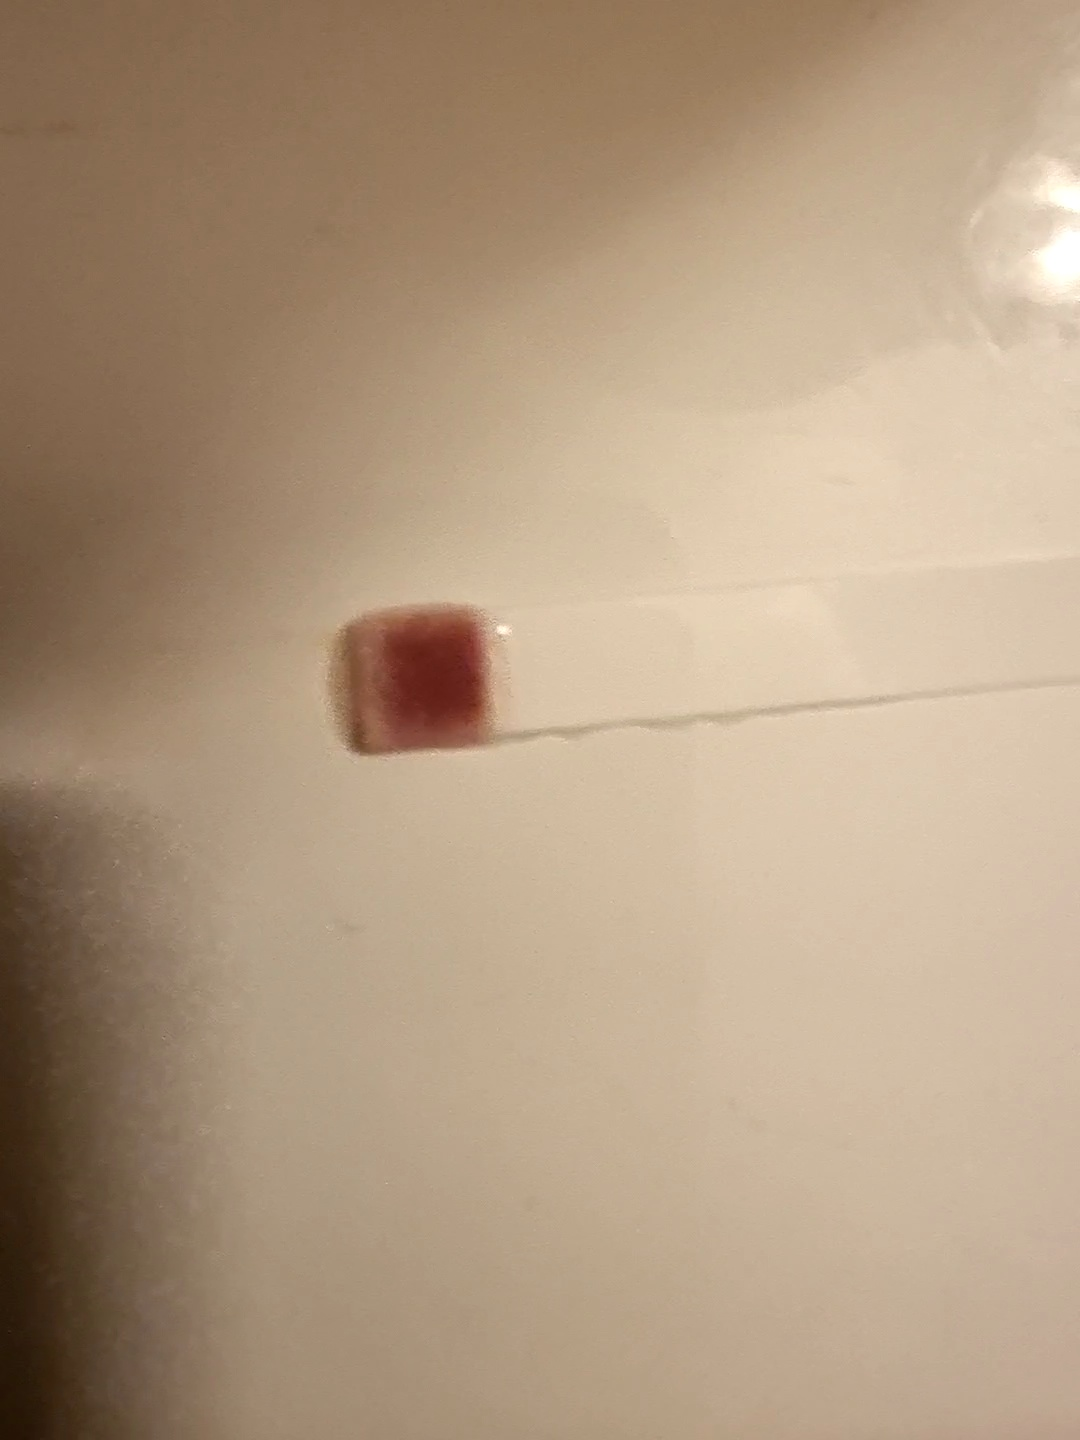keto-tip: (326, 596, 508, 763)
